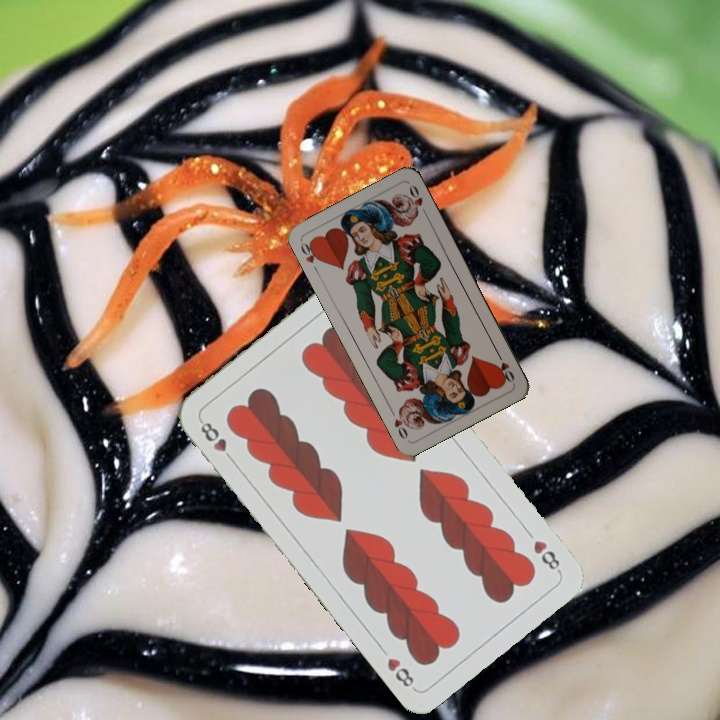H8: (195, 415, 238, 465), (529, 536, 564, 576)
HO: (296, 237, 324, 276), (492, 348, 517, 385)
